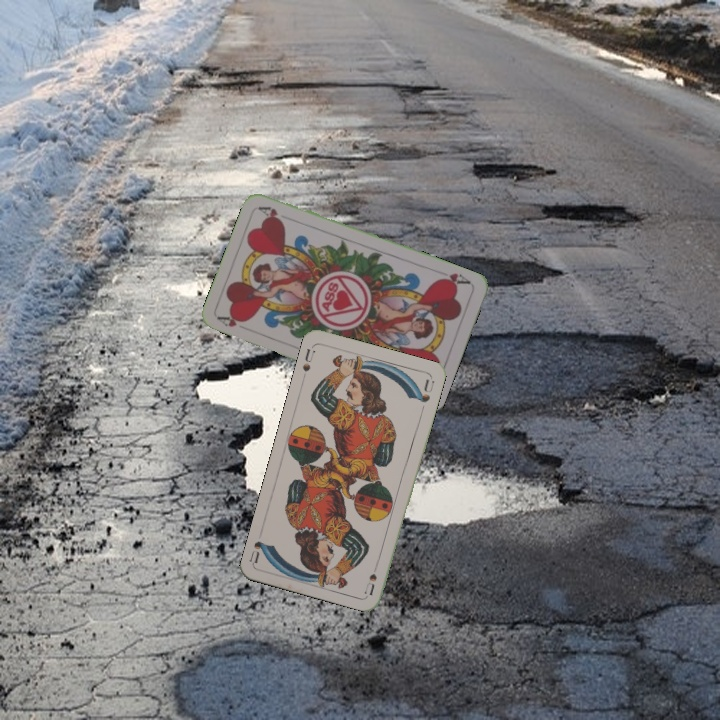HA: (434, 269, 473, 289), (214, 310, 249, 330)
SU: (361, 556, 382, 597), (298, 345, 317, 374)
